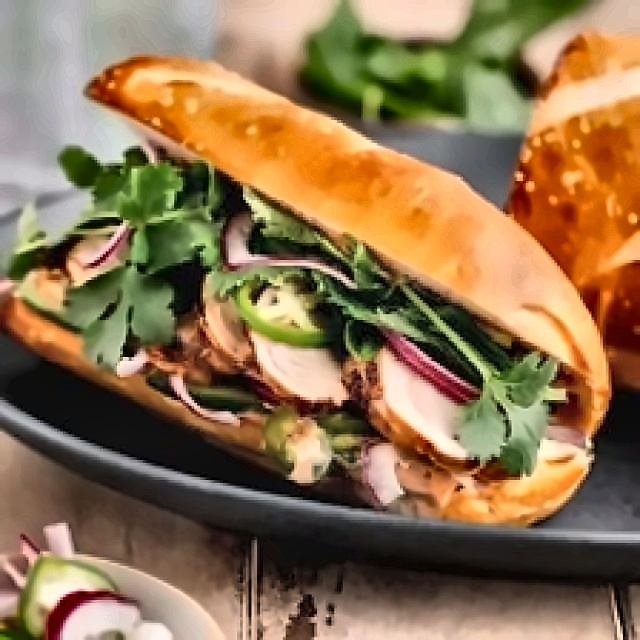bread: (480, 16, 640, 358), (332, 142, 577, 338), (110, 54, 379, 197), (413, 461, 598, 536)
